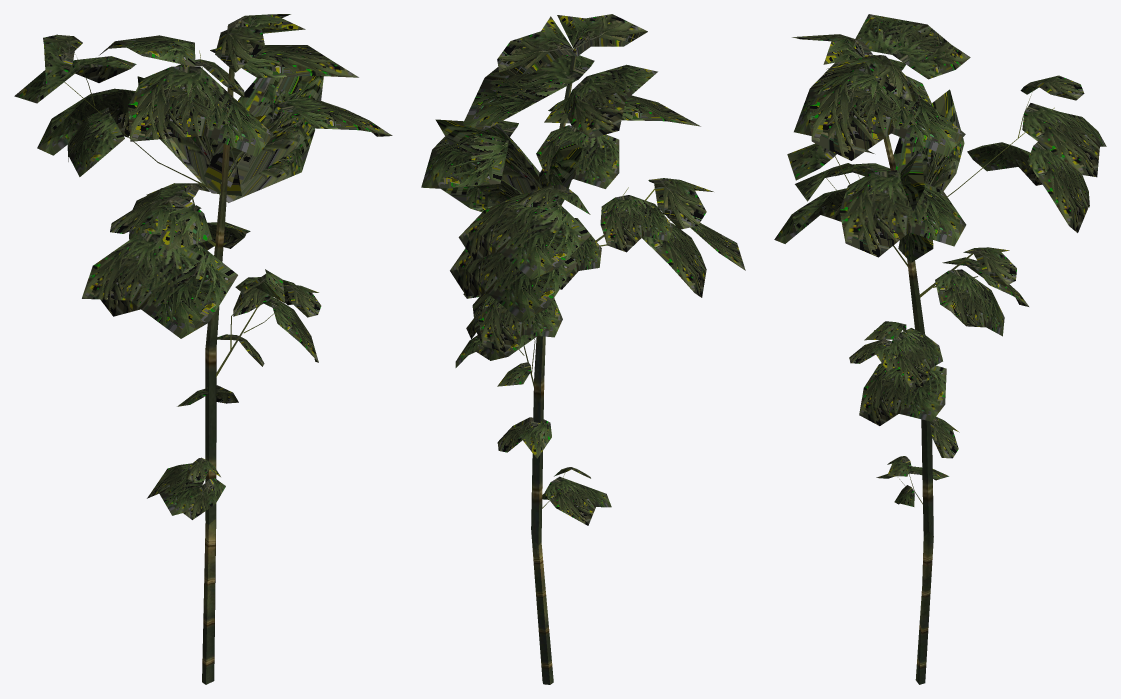
File: bamboo.glb
3 renders of one model, left to right at view 1: azimuth 30°, elevation 25°; view 2: azimuth 150°, elevation 25°; view 3: azimuth 270°, elevation 25°, orthographic. The views are drawn at different scales.
Parts seen in each view (by area): view 1: bamboo; view 2: bamboo; view 3: bamboo.
Part boxes in pixels (x1,y1,x2,y2): bamboo: (14, 14, 392, 684); bamboo: (421, 14, 745, 684); bamboo: (774, 14, 1106, 684).
Size of the model in its own units: 7.54 by 15.59 by 7.3.
1 material, 1 textured.
